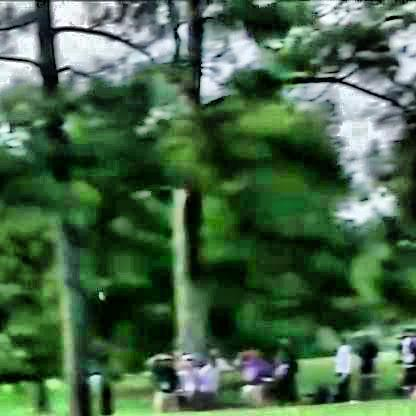golfball: (95, 288, 102, 298)
